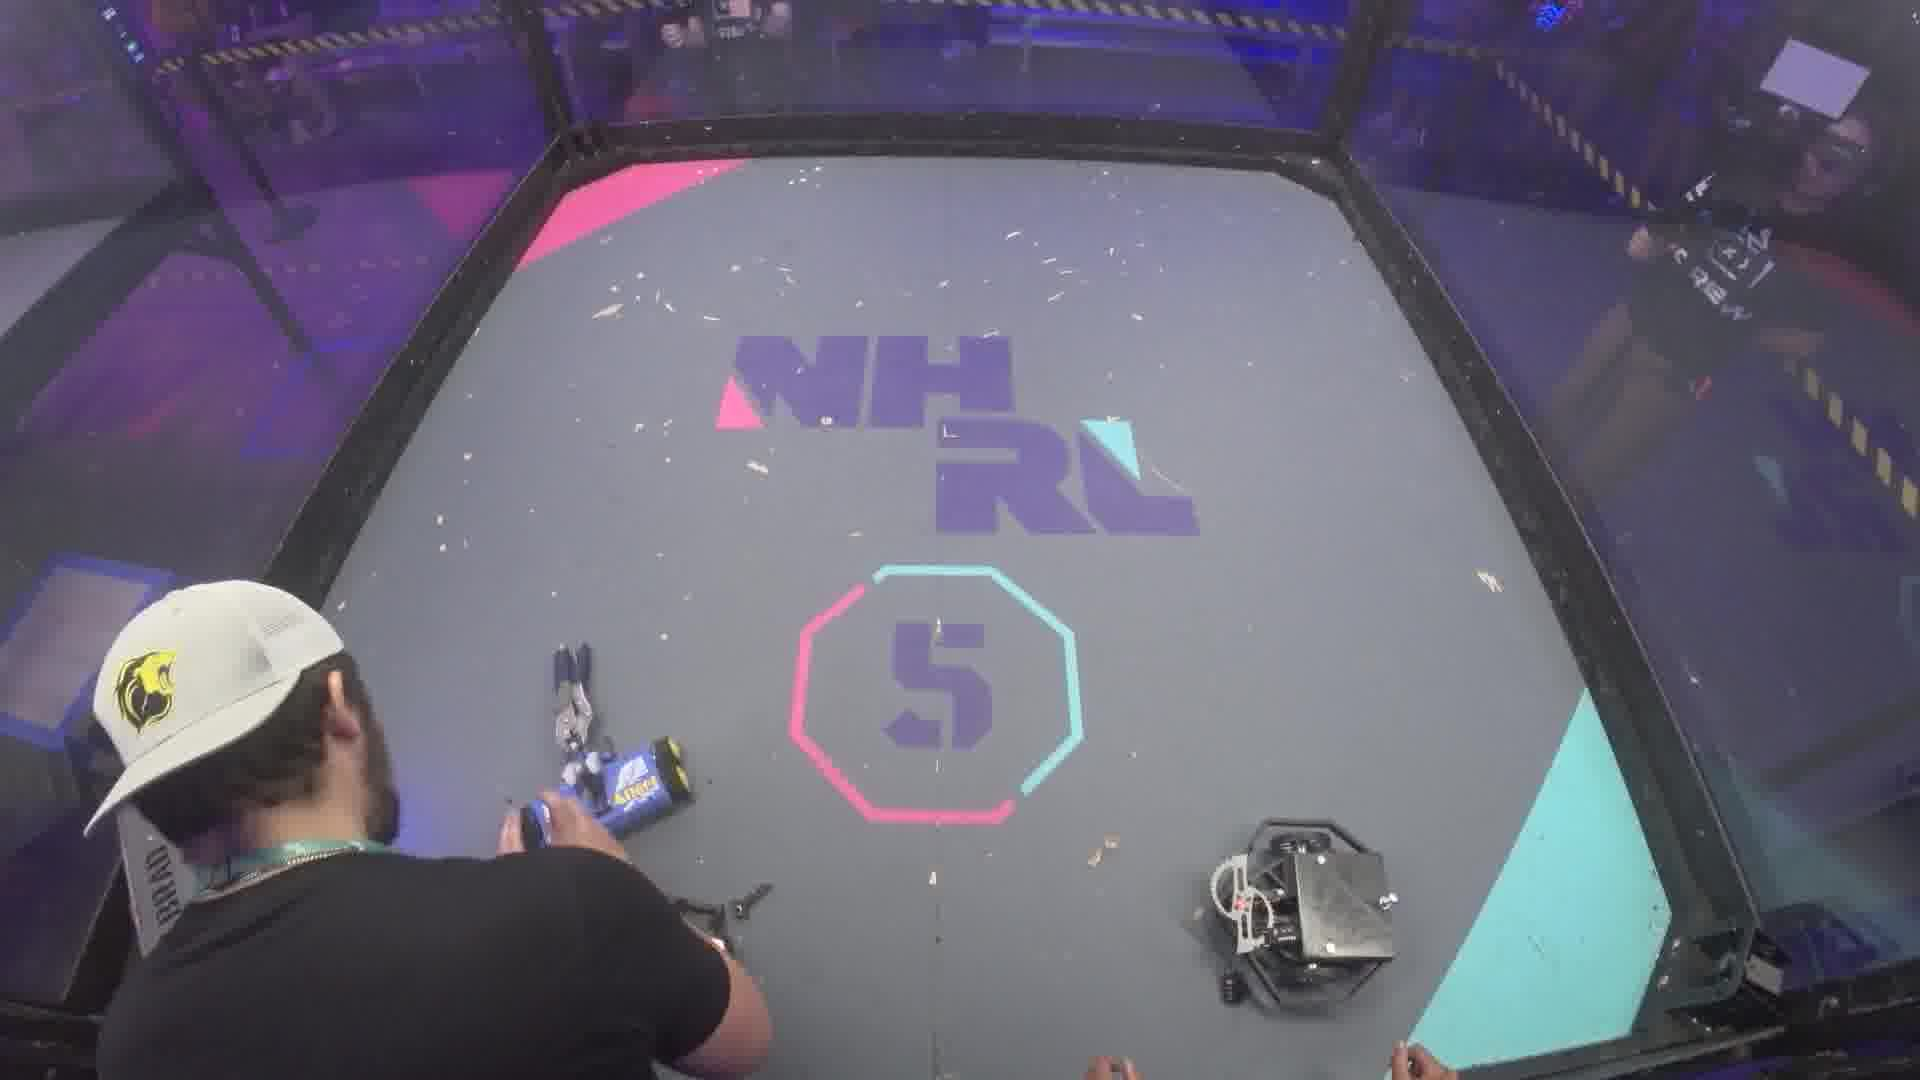combatbot: (1200, 815, 1404, 1019)
housebot: (116, 795, 189, 960)
minibot: (570, 737, 692, 844)
